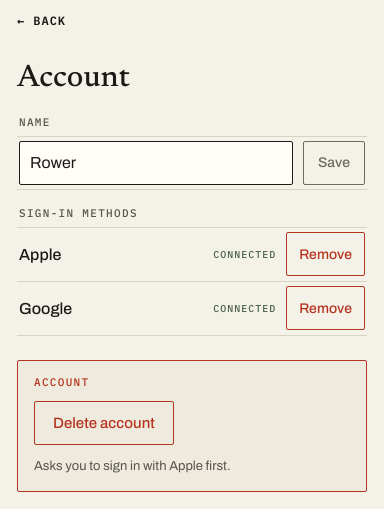
Test case: useAuthFlow › stops showing a method as connected once it is removed
Click the button with aria-label "Remove Apple": (326, 254) [286,232,365,276]
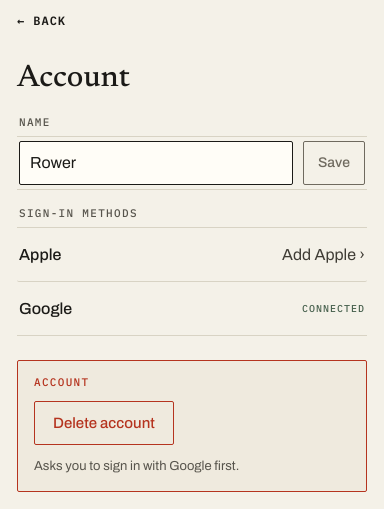
expect the button "Apple Add Apple ›" is shown: met, box [17,228,367,282]
